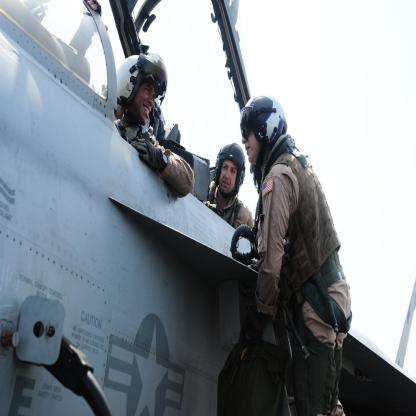Helmet: (242, 89, 288, 164), (116, 51, 168, 109), (212, 142, 245, 224)
